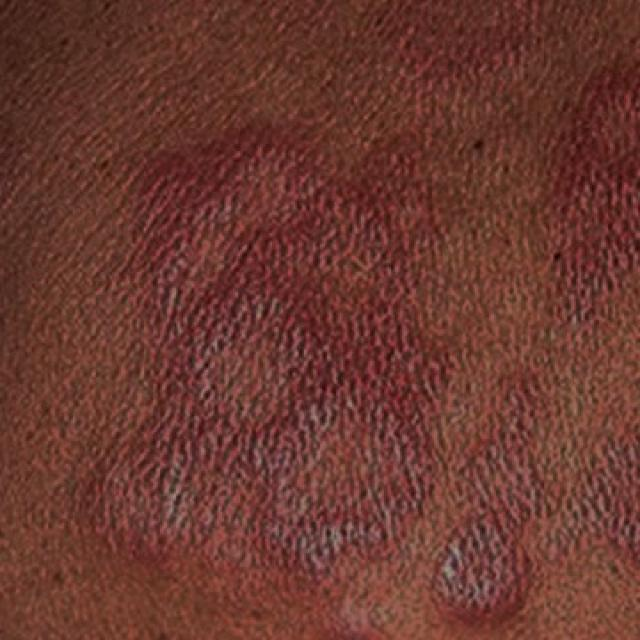Leprosy: (73, 119, 455, 567), (442, 366, 638, 638), (488, 46, 638, 345)
